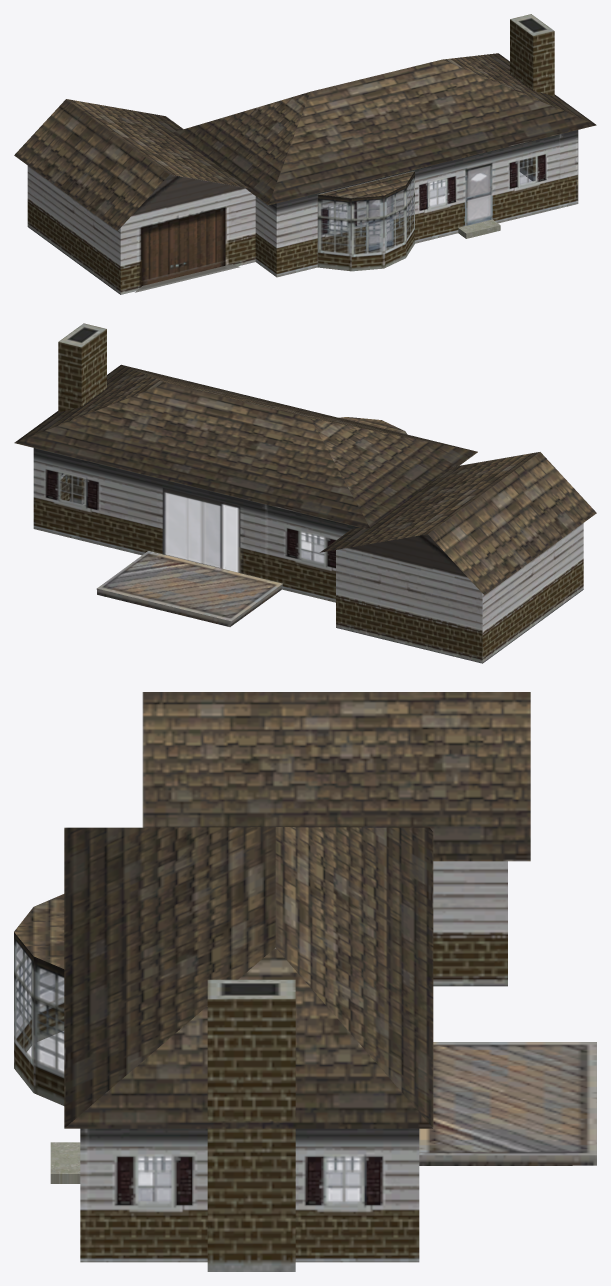
Rendered from Civilian - Residential Building - house 02 - CBhouse02.glb.
The picture shows the model from 3 angles, top to bottom: view 1: azimuth 30°, elevation 25°; view 2: azimuth 150°, elevation 25°; view 3: azimuth 270°, elevation 25°; orthographic projection. The views are drawn at different scales.
Parts seen in each view (by area): view 1: CBHOUSE02; view 2: CBHOUSE02; view 3: CBHOUSE02.
Part boxes in pixels (left/top/right/bottom): CBHOUSE02: left=14, top=14, right=596, bottom=294; CBHOUSE02: left=14, top=323, right=596, bottom=663; CBHOUSE02: left=14, top=692, right=596, bottom=1271.
Size of the model in its own units: 89 by 27 by 52.24.
1 material, 1 textured.
